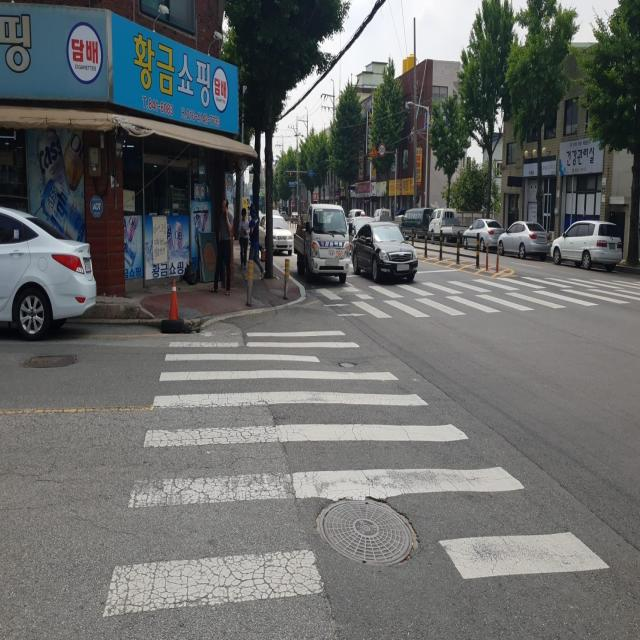횡단보도: (100, 322, 614, 624), (324, 272, 640, 322)
